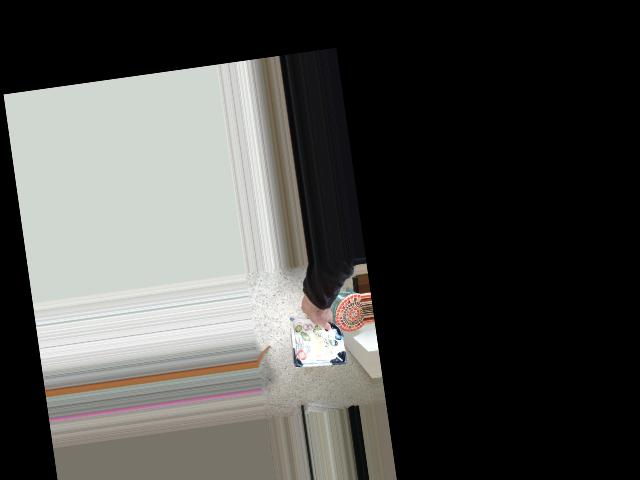cheese: (278, 293, 353, 369)
